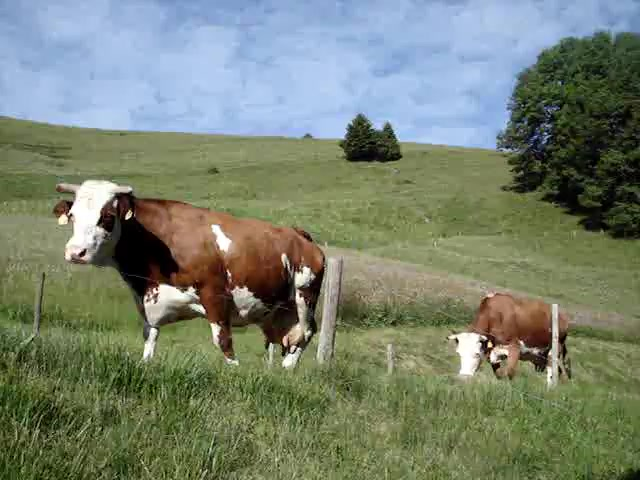cow: (53, 178, 325, 372)
